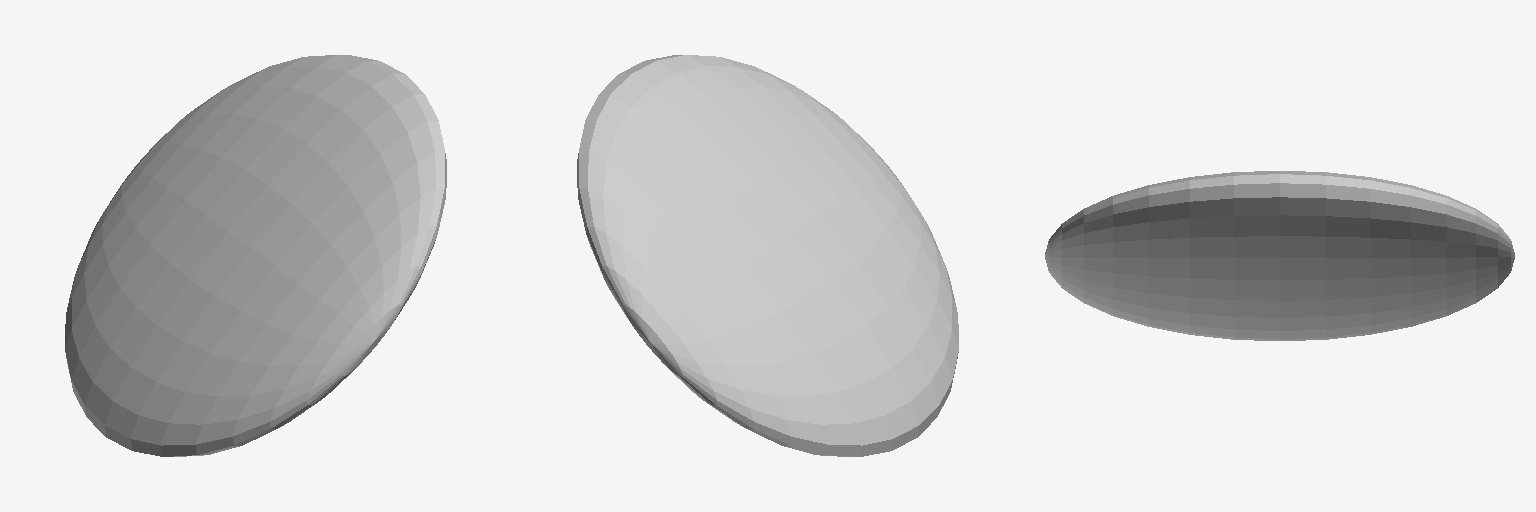
File: coin001.obj
The picture shows the model from 3 angles: view 1: azimuth 30°, elevation 25°; view 2: azimuth 150°, elevation 25°; view 3: azimuth 270°, elevation 25°; orthographic projection.
Parts seen in each view (by area): view 1: Coin.001_Sphere.002; view 2: Coin.001_Sphere.002; view 3: Coin.001_Sphere.002.
Part boxes in pixels (x1,y1,x2,y2): Coin.001_Sphere.002: (65,55,446,456); Coin.001_Sphere.002: (577,55,958,456); Coin.001_Sphere.002: (1045,171,1514,340).
Bounding box in the file's own units: 0.7417 × 0.6966 × 1.